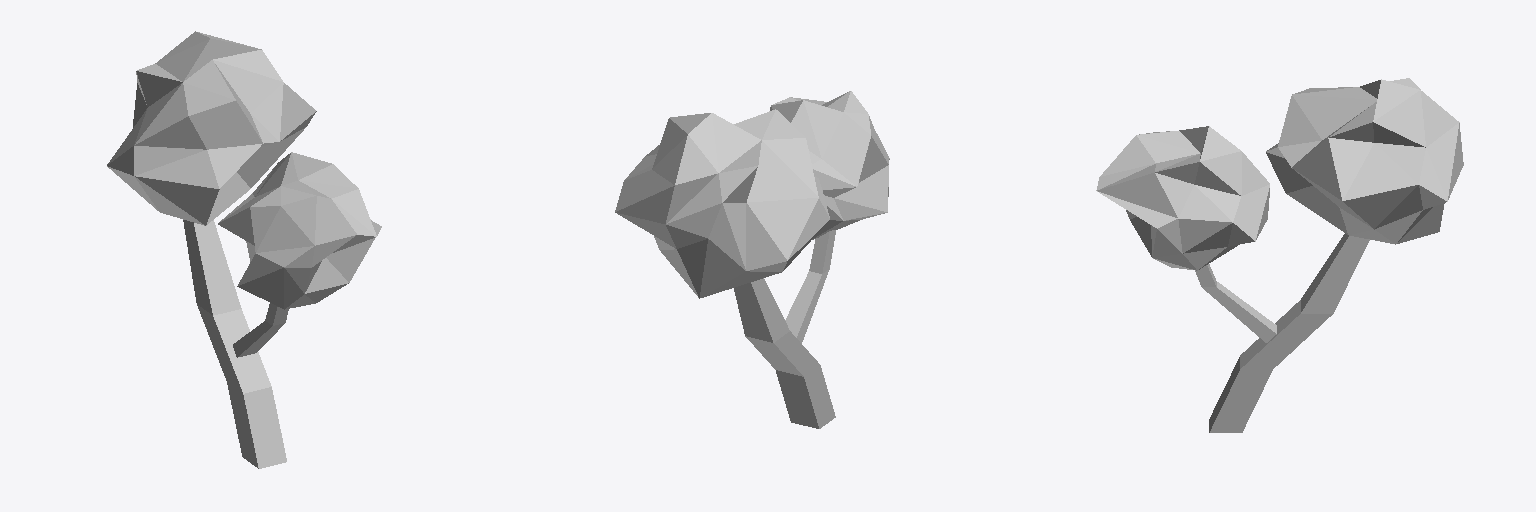
The model's file is tree6.obj.
The picture shows the model from 3 angles: view 1: azimuth 30°, elevation 25°; view 2: azimuth 150°, elevation 25°; view 3: azimuth 270°, elevation 25°; orthographic projection.
Visible parts, largest first — view 1: Icosphere.005_Icosphere.004, Icosphere.006_Icosphere.005, Cube.006_Cube.010; view 2: Icosphere.005_Icosphere.004, Icosphere.006_Icosphere.005, Cube.006_Cube.010; view 3: Icosphere.005_Icosphere.004, Icosphere.006_Icosphere.005, Cube.006_Cube.010.
Part boxes in pixels (x1,y1,x2,y2): Icosphere.005_Icosphere.004: (107, 31, 316, 225); Icosphere.006_Icosphere.005: (218, 152, 381, 309); Cube.006_Cube.010: (183, 220, 288, 468); Icosphere.005_Icosphere.004: (615, 109, 829, 298); Icosphere.006_Icosphere.005: (770, 91, 889, 239); Cube.006_Cube.010: (734, 230, 835, 428); Icosphere.005_Icosphere.004: (1266, 78, 1463, 244); Icosphere.006_Icosphere.005: (1096, 126, 1269, 270); Cube.006_Cube.010: (1195, 233, 1369, 432).
Bounding box in the file's own units: 1.55 × 2.88 × 2.68.